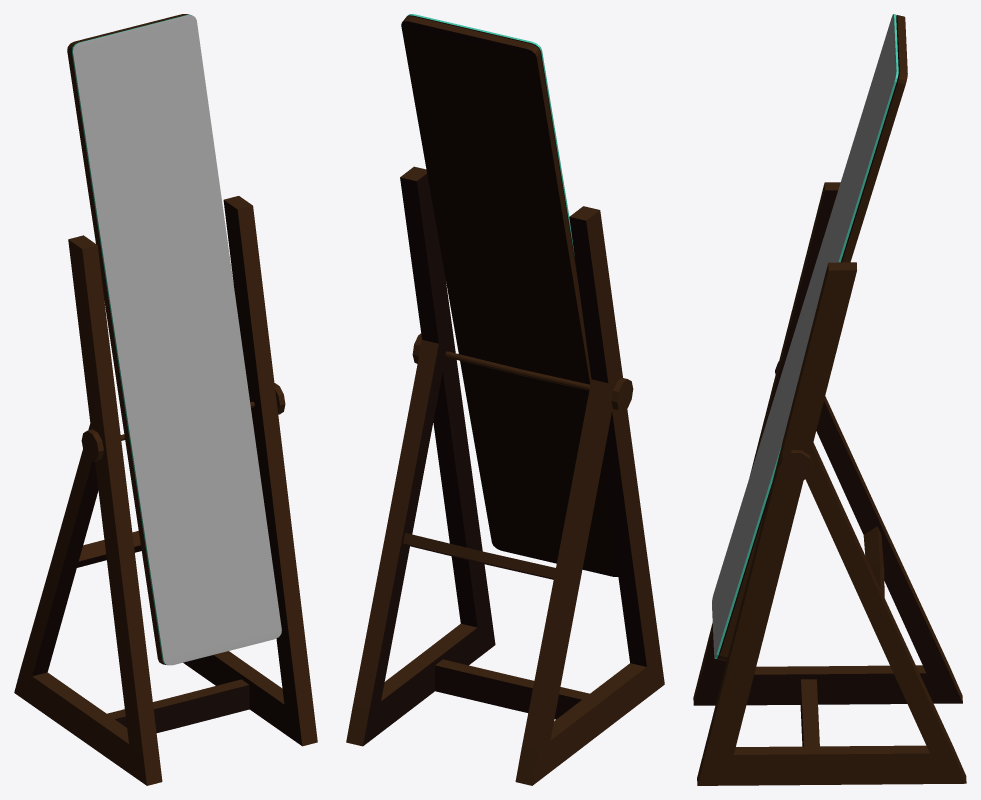
File: Mirror 1.fbx
3 views of the same model, side by side, from view 1: azimuth 30°, elevation 25°; view 2: azimuth 150°, elevation 25°; view 3: azimuth 270°, elevation 25° (orthographic). The views are drawn at different scales.
Visible parts, largest first — view 1: Mirror; view 2: Mirror; view 3: Mirror.
Part boxes in pixels (x1,y1,x2,y2): Mirror: [14, 14, 317, 785]; Mirror: [346, 14, 664, 785]; Mirror: [693, 14, 966, 785].
Bounding box in the file's own units: 259 × 869 × 309.
